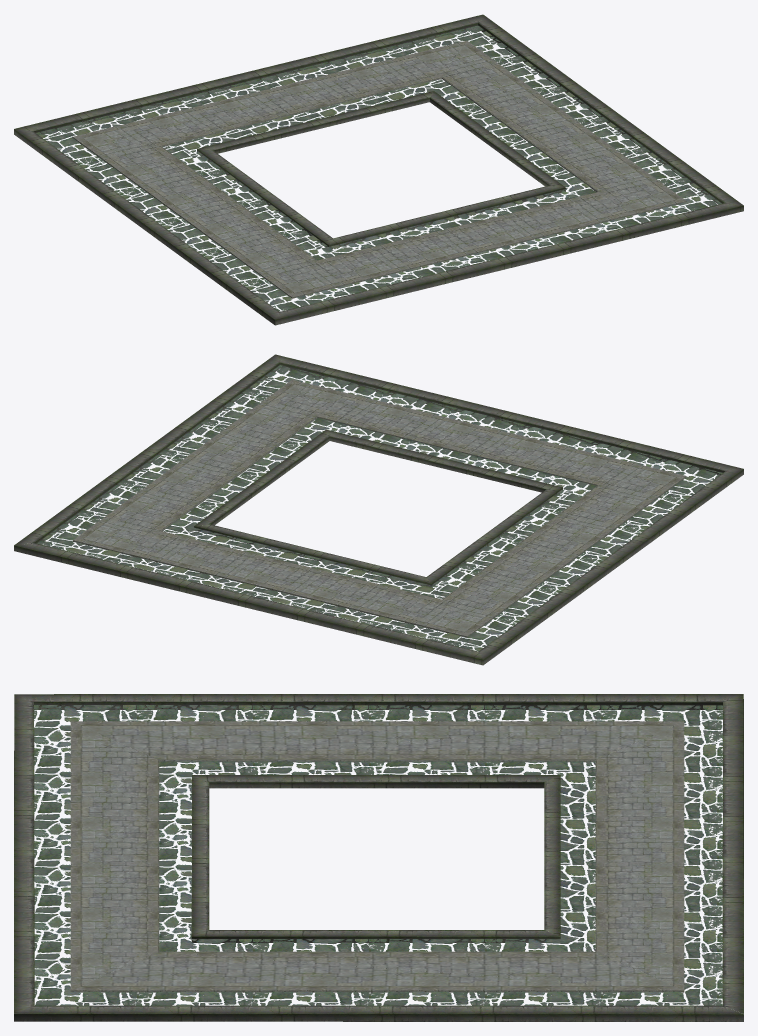
File: environment_Building_qingsangcheng_001_j.FBX
3 views of the same model, one above another, from view 1: azimuth 30°, elevation 25°; view 2: azimuth 150°, elevation 25°; view 3: azimuth 270°, elevation 25° (orthographic). The views are drawn at different scales.
Visible parts, largest first — view 1: environment_Building_qingsangcheng_001_j02, environment_Building_qingsangcheng_001_j01, environment_Building_qingsangcheng_001_j03; view 2: environment_Building_qingsangcheng_001_j02, environment_Building_qingsangcheng_001_j01, environment_Building_qingsangcheng_001_j03; view 3: environment_Building_qingsangcheng_001_j02, environment_Building_qingsangcheng_001_j01, environment_Building_qingsangcheng_001_j03.
Part boxes in pixels (x1=…): environment_Building_qingsangcheng_001_j02: x1=72, y1=40, x2=686, y2=298; environment_Building_qingsangcheng_001_j01: x1=36, y1=25, x2=721, y2=311; environment_Building_qingsangcheng_001_j03: x1=14, y1=14, x2=743, y2=325; environment_Building_qingsangcheng_001_j02: x1=72, y1=379, x2=686, y2=637; environment_Building_qingsangcheng_001_j01: x1=37, y1=365, x2=722, y2=651; environment_Building_qingsangcheng_001_j03: x1=14, y1=354, x2=743, y2=665; environment_Building_qingsangcheng_001_j02: x1=70, y1=721, x2=684, y2=992; environment_Building_qingsangcheng_001_j01: x1=34, y1=705, x2=722, y2=1005; environment_Building_qingsangcheng_001_j03: x1=14, y1=694, x2=743, y2=1021.
Size of the model in its own units: 4465 by 4303 by 51.19.
3 materials, 3 textured.
